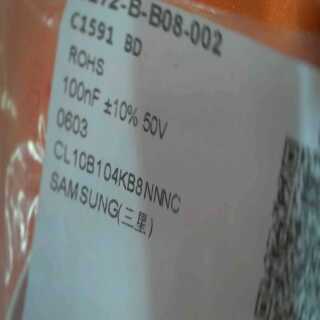100nF: (55, 75, 101, 112)
